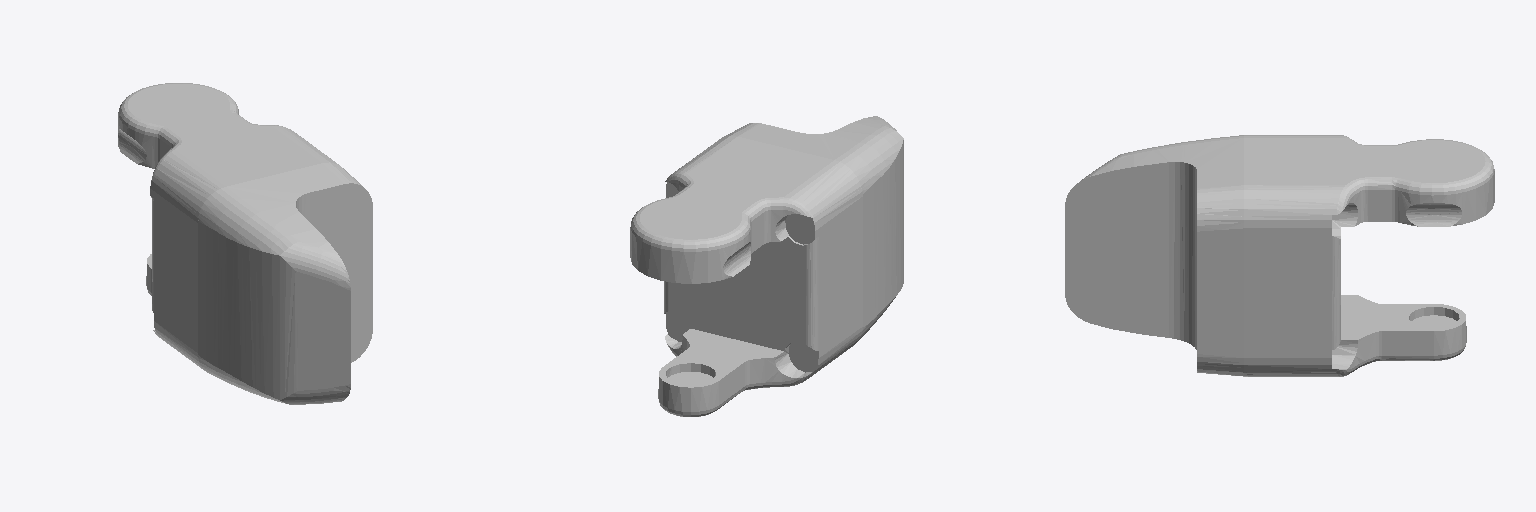
Rendered from ll_dg_4_4_c_mesh_World_mesh.obj.
The picture shows the model from 3 angles: view 1: azimuth 30°, elevation 25°; view 2: azimuth 150°, elevation 25°; view 3: azimuth 270°, elevation 25°; orthographic projection.
Size of the model in its own units: 0.019 by 0.0224 by 0.0462.